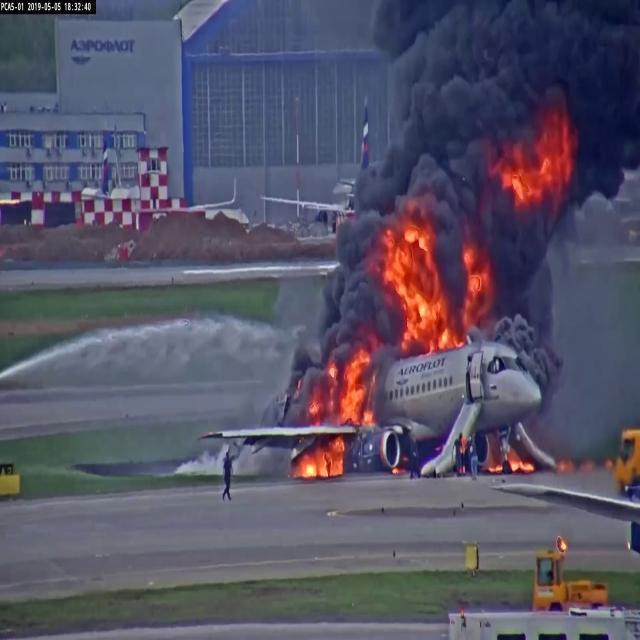Fire: (395, 231, 435, 338), (517, 136, 570, 198), (338, 367, 358, 420), (308, 452, 343, 473)
Smoke: (425, 0, 640, 128)
